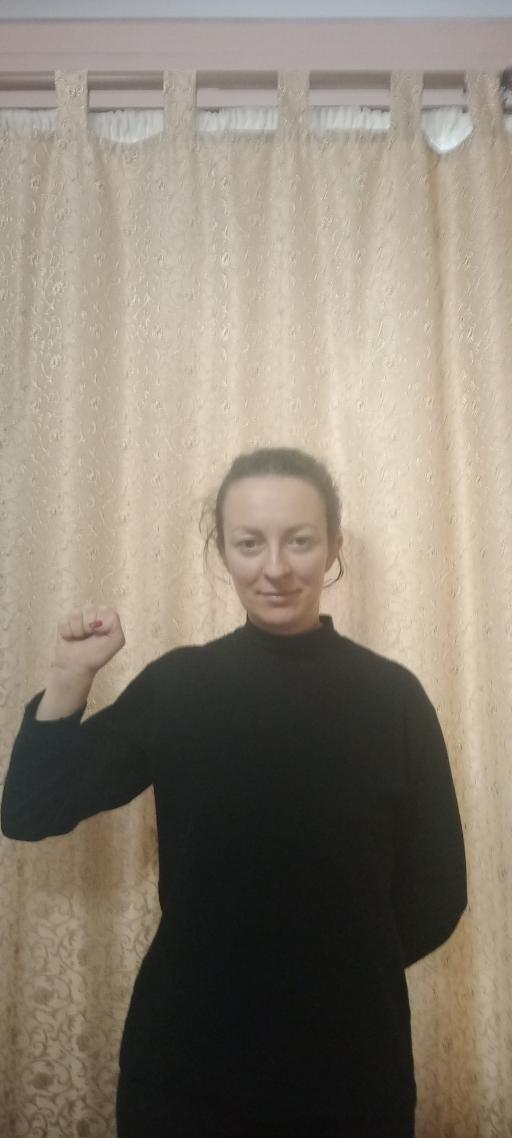fist: (50, 603, 125, 677)
